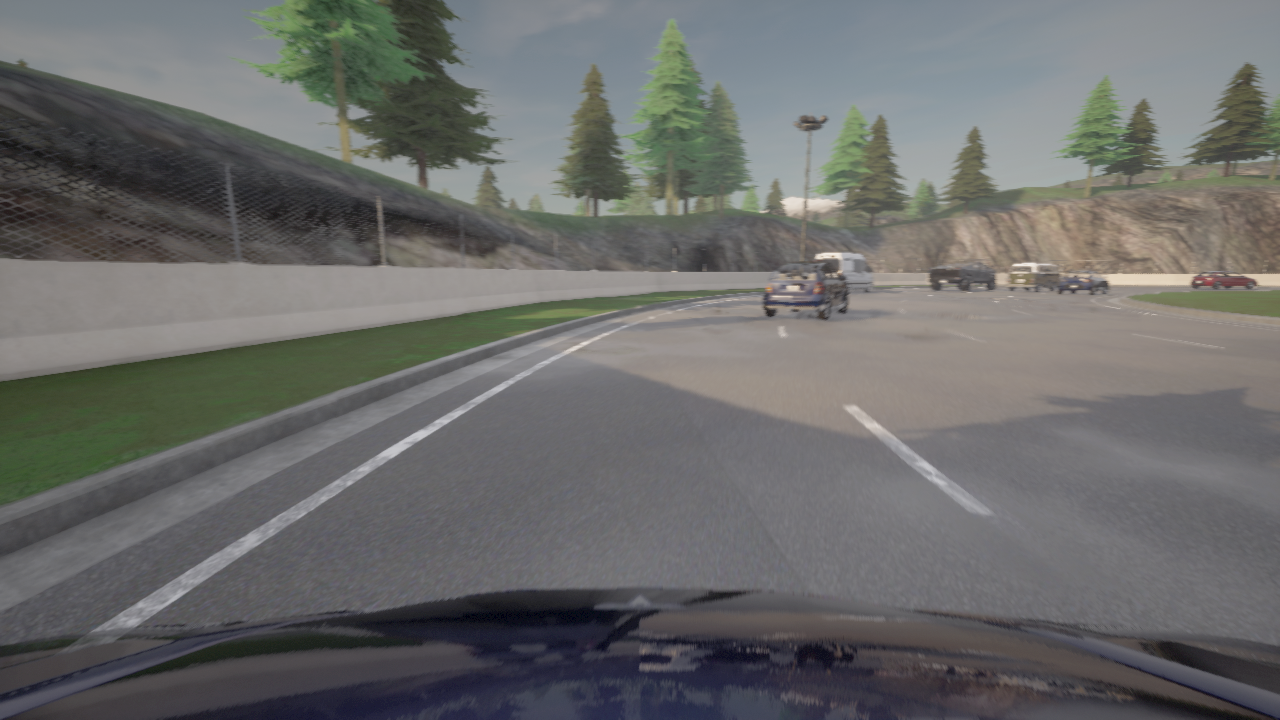cyclist: (0, 588, 1279, 719), (763, 262, 847, 319), (814, 252, 872, 293), (929, 262, 997, 291), (1006, 262, 1062, 292), (1057, 270, 1109, 295), (1061, 273, 1066, 277)
